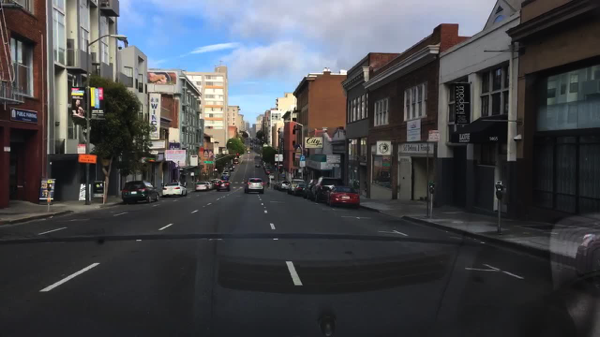car: (120, 180, 160, 203), (309, 178, 343, 203), (328, 186, 361, 208), (161, 183, 188, 197), (244, 178, 265, 194), (286, 180, 306, 195), (302, 179, 317, 199), (293, 183, 308, 197), (215, 182, 231, 192), (195, 181, 210, 191), (280, 181, 290, 192), (213, 182, 221, 190), (223, 170, 233, 176), (206, 182, 213, 190), (220, 176, 231, 181), (273, 183, 280, 190), (229, 164, 237, 169), (222, 173, 232, 177), (213, 178, 220, 183), (265, 172, 272, 176), (255, 163, 260, 168), (229, 168, 235, 172), (262, 162, 270, 165), (232, 160, 239, 163), (264, 170, 271, 173), (253, 137, 258, 141), (237, 155, 242, 159), (247, 149, 252, 153), (264, 165, 268, 170), (206, 180, 212, 183), (250, 143, 254, 147), (243, 147, 247, 151), (253, 141, 258, 144), (250, 147, 255, 150), (247, 136, 250, 140), (250, 139, 253, 143), (254, 145, 258, 148)
person: (178, 169, 185, 184)
traffic sign: (77, 144, 86, 154), (299, 155, 305, 167), (428, 188, 436, 196), (275, 154, 282, 162), (429, 180, 435, 188), (203, 160, 214, 164), (190, 173, 194, 176)
